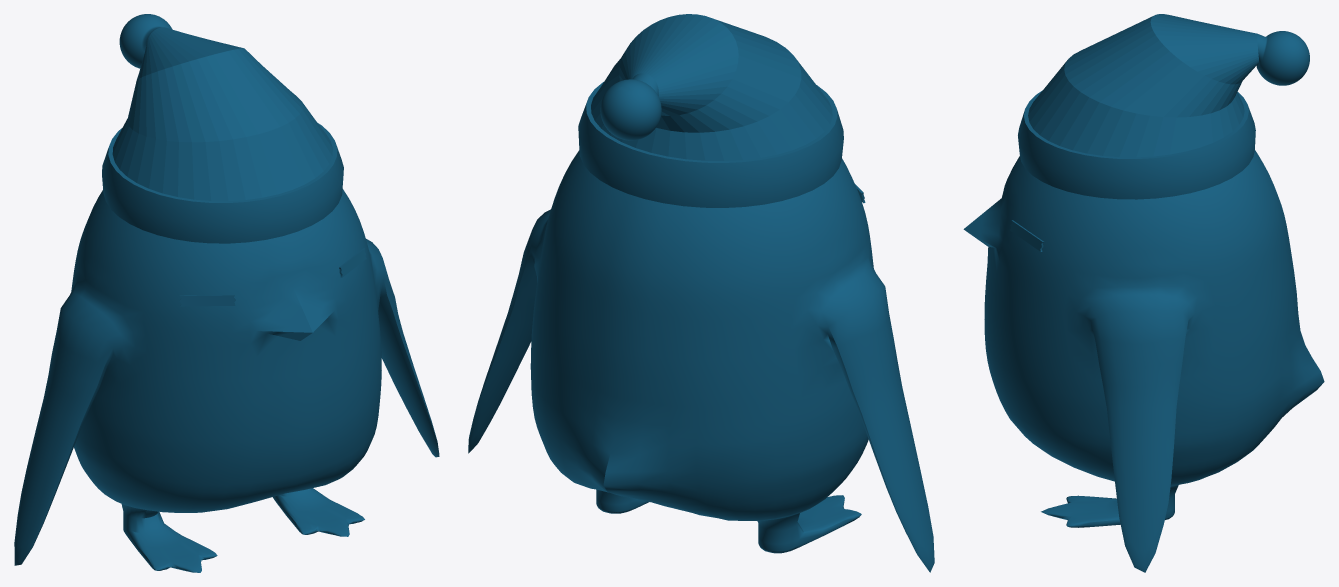
File: penguin_blue_idle_04f.fbx
The picture shows the model from 3 angles, left to right: view 1: azimuth 30°, elevation 25°; view 2: azimuth 150°, elevation 25°; view 3: azimuth 270°, elevation 25°; orthographic projection. The views are drawn at different scales.
Visible parts, largest first — view 1: ppp_4, bousi, ai; view 2: ppp_4, bousi; view 3: ppp_4, bousi.
Boxes of the visible parts, x1,y1,x2,y2 form: ppp_4: [14, 189, 439, 572]; bousi: [102, 14, 343, 243]; ai: [179, 248, 366, 306]; ppp_4: [468, 150, 934, 572]; bousi: [578, 14, 843, 207]; ppp_4: [963, 150, 1324, 572]; bousi: [1018, 14, 1309, 199].
Size of the model in its own units: 19.11 by 20.12 by 14.46.
Materials: 1 (1 with a texture image).
